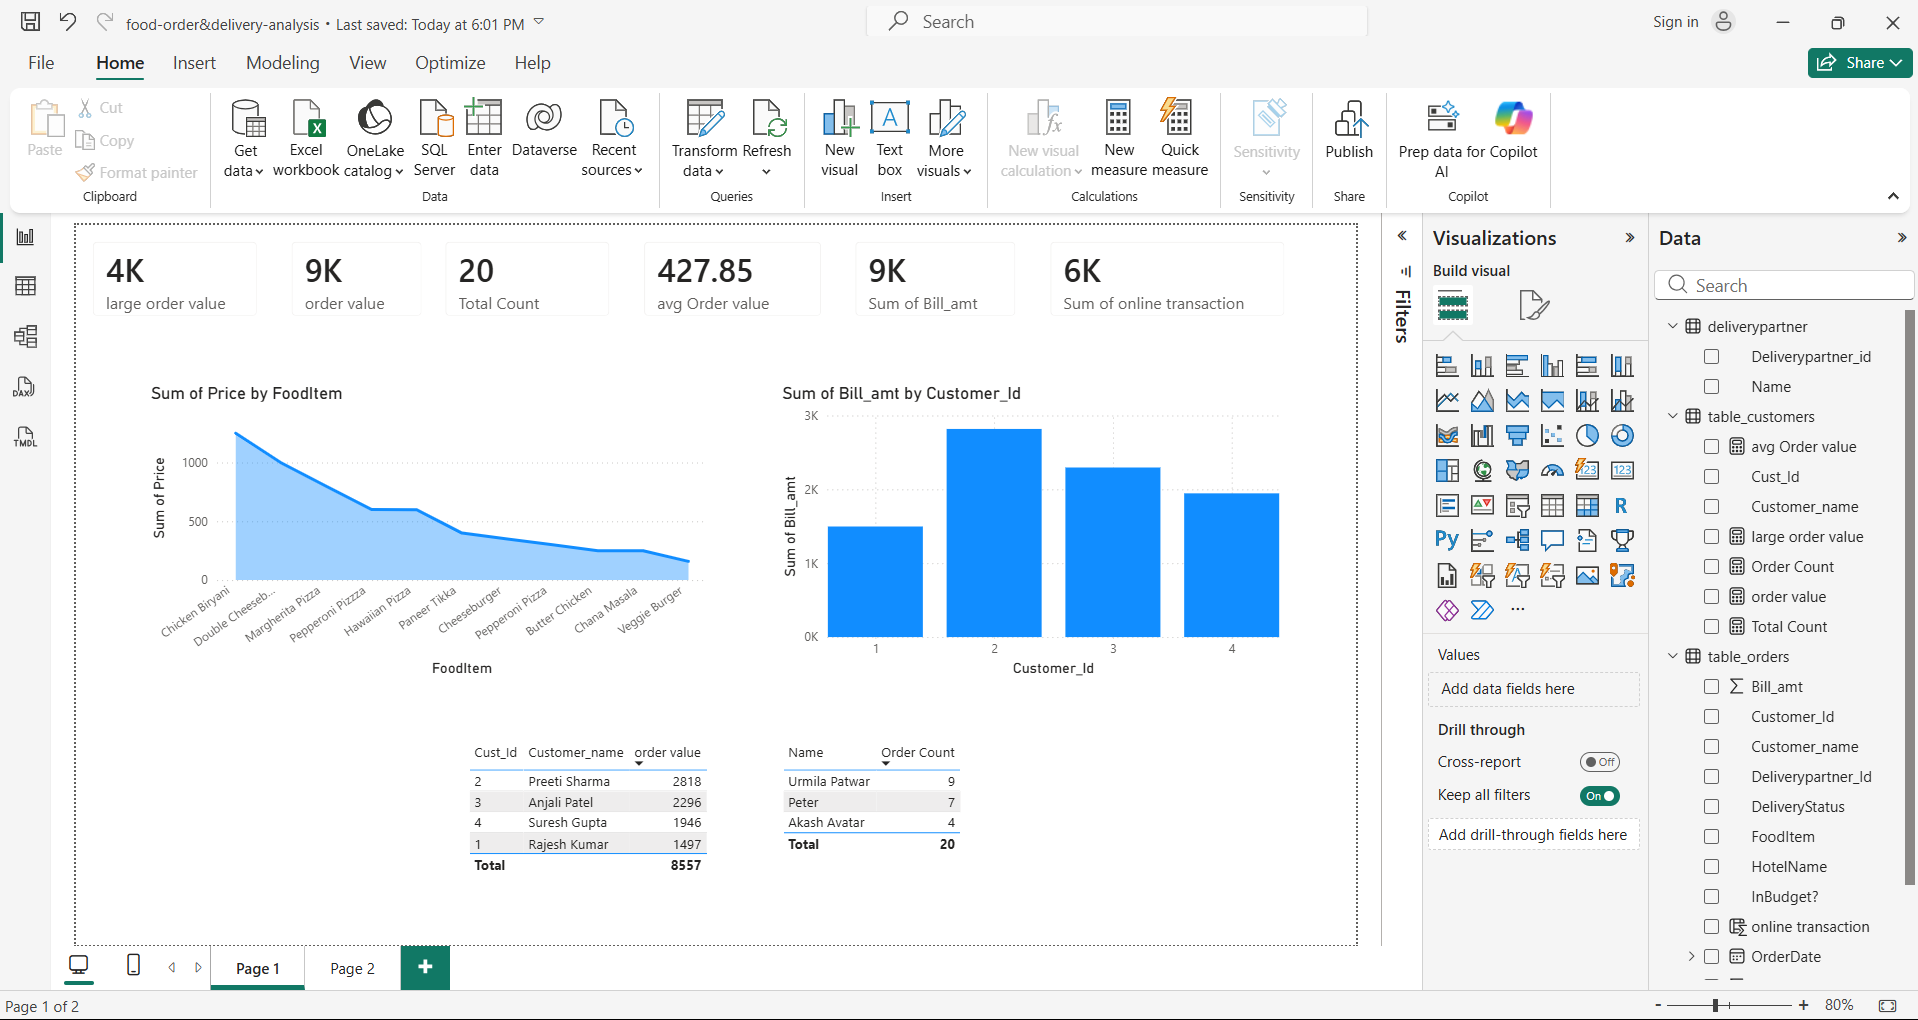

The page's visual inventory and layout, read from the dashboard file:
{"tool":"powerbi","page":{"name":"Page 1","canvas":[1280,720],"ordinal":0},"visuals":[{"type":"columnChart","fields":{"Category":["table_orders.Customer_Id"],"Y":["Sum(table_orders.Bill_amt)"]},"box":[701.4,157.1,507.1,298.6],"z":0},{"type":"areaChart","fields":{"Category":["table_orders.FoodItem"],"Y":["Sum(table_orders.Price)"]},"box":[70,157.1,565.7,298.6],"z":1000},{"type":"cardVisual","fields":{"Data":["Sum(table_orders.Bill_amt)"]},"box":[762.9,0,194.3,108.6],"z":2000},{"type":"cardVisual","fields":{"Data":["table_customers.order value"]},"box":[198.6,0,164.3,108.6],"z":3000},{"type":"cardVisual","fields":{"Data":["table_customers.large order value"]},"box":[0,0,198.6,108.6],"z":4000},{"type":"cardVisual","fields":{"Data":["table_customers.Total Count"]},"box":[352.9,0,198.6,108.6],"z":5000},{"type":"cardVisual","fields":{"Data":["table_customers.avg Order value"]},"box":[551.4,0,211.4,108.6],"z":6000},{"type":"cardVisual","fields":{"Data":["Sum(table_orders.online transaction)"]},"box":[957.1,0,268.6,108.6],"z":7000},{"type":"tableEx","fields":{"Values":["table_customers.Cust_Id","table_orders.Customer_name","table_customers.order value"]},"box":[387.1,511.4,285.7,184.3],"z":8000},{"type":"tableEx","fields":{"Values":["deliverypartner.Name","table_customers.Order Count"]},"box":[701.4,511.4,238.6,184.3],"z":9000}]}

Visuals, with their boxes on the page's 1280x720 design canvas (x1, y1, x2, y2). These are canvas units, not pixel positions in the 1918x1020 screenshot, which may show the page scaled, cropped or inside an application window:
columnChart - table_orders.Customer_Id x Sum(table_orders.Bill_amt): [701,157,1208,456]
areaChart - table_orders.FoodItem x Sum(table_orders.Price): [70,157,636,456]
cardVisual - Sum(table_orders.Bill_amt): [763,0,957,109]
cardVisual - table_customers.order value: [199,0,363,109]
cardVisual - table_customers.large order value: [0,0,199,109]
cardVisual - table_customers.Total Count: [353,0,552,109]
cardVisual - table_customers.avg Order value: [551,0,763,109]
cardVisual - Sum(table_orders.online transaction): [957,0,1226,109]
tableEx - table_customers.Cust_Id x table_orders.Customer_name: [387,511,673,696]
tableEx - deliverypartner.Name x table_customers.Order Count: [701,511,940,696]
